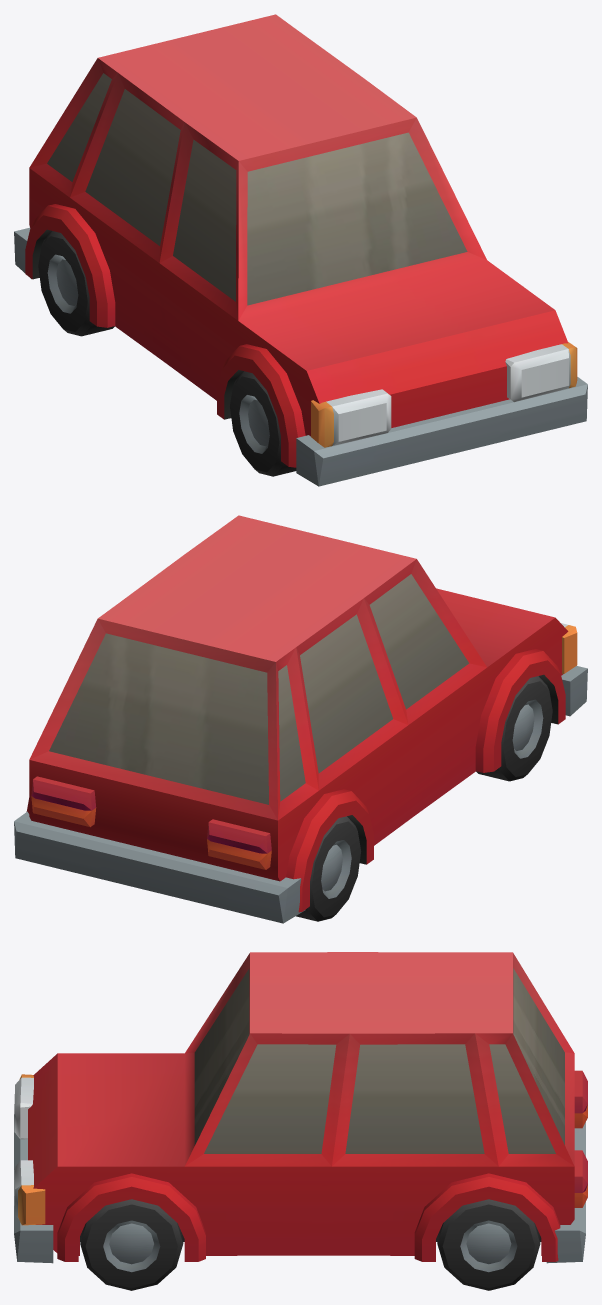
File: car_hatch.glb
The picture shows the model from 3 angles, top to bottom: view 1: azimuth 30°, elevation 25°; view 2: azimuth 150°, elevation 25°; view 3: azimuth 270°, elevation 25°; orthographic projection. The views are drawn at different scales.
Visible parts, largest first — view 1: car_hatchback; view 2: car_hatchback; view 3: car_hatchback.
Boxes of the visible parts, x1,y1,x2,y2 form: car_hatchback: (14, 14, 587, 486); car_hatchback: (14, 515, 587, 923); car_hatchback: (14, 952, 587, 1290).
Size of the model in its own units: 0.4189 by 0.3687 by 0.8061.
Materials: 1 (1 with a texture image).
